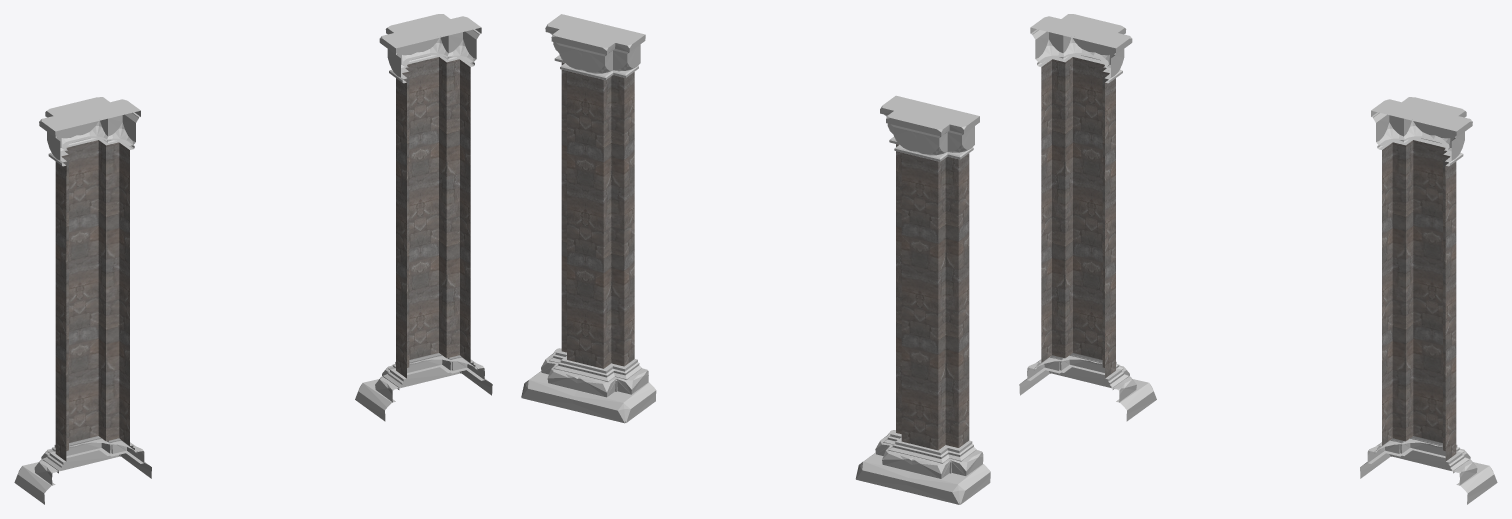
3 renders of one model, left to right at view 1: azimuth 30°, elevation 25°; view 2: azimuth 150°, elevation 25°; view 3: azimuth 330°, elevation 25°, orthographic.
Parts seen in each view (by area): view 1: SM_Dungeon_RoomWideDoor_LOD0; view 2: SM_Dungeon_RoomWideDoor_LOD0; view 3: SM_Dungeon_RoomWideDoor_LOD0.
Part boxes in pixels (left/top/right/bottom): SM_Dungeon_RoomWideDoor_LOD0: left=14, top=14, right=492, bottom=504; SM_Dungeon_RoomWideDoor_LOD0: left=521, top=14, right=990, bottom=504; SM_Dungeon_RoomWideDoor_LOD0: left=1019, top=14, right=1497, bottom=504.
Size of the model in its own units: 7.91 by 6.25 by 0.9543.
